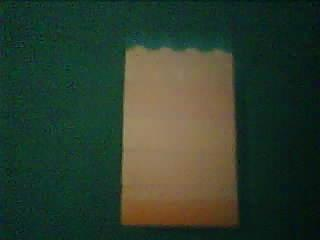lego: (115, 43, 243, 225)
